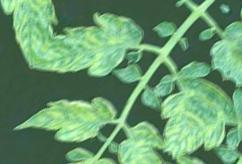Tomato leaf yellow virus: (24, 0, 152, 119), (117, 52, 223, 164), (9, 62, 121, 164), (87, 111, 178, 164), (191, 10, 242, 83), (43, 134, 131, 164), (102, 0, 187, 17)
